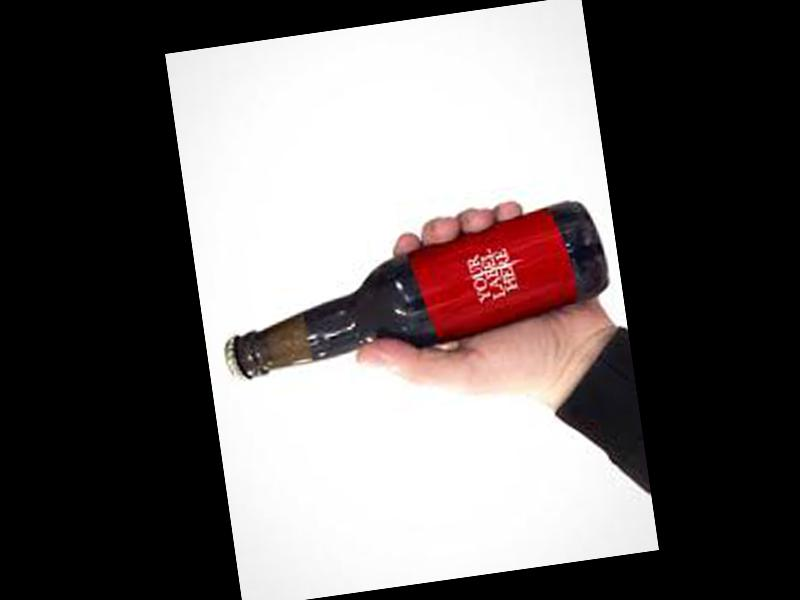Beer: (208, 195, 615, 385)
